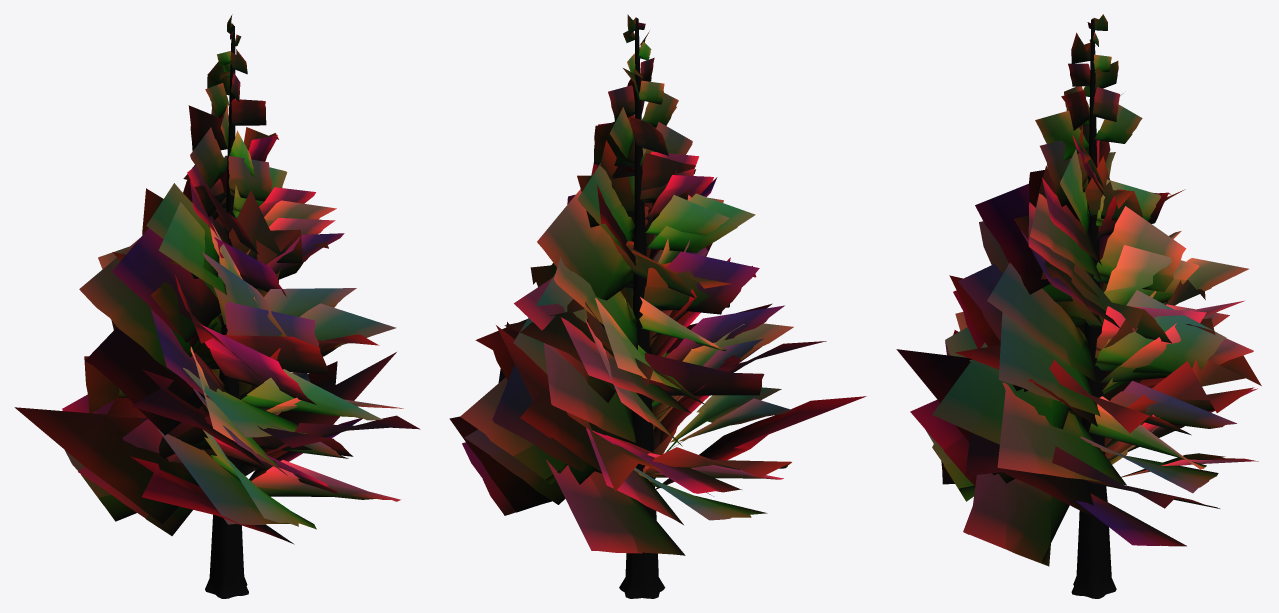
Rendered from Tree_Pine.FBX.
3 views of the same model, side by side, from view 1: azimuth 30°, elevation 25°; view 2: azimuth 150°, elevation 25°; view 3: azimuth 270°, elevation 25° (orthographic).
Parts seen in each view (by area): view 1: Tree_Pine; view 2: Tree_Pine; view 3: Tree_Pine.
Boxes of the visible parts, box(x1,y1,x2,y2) form: Tree_Pine: box(14, 14, 420, 598); Tree_Pine: box(449, 14, 866, 598); Tree_Pine: box(896, 14, 1261, 598).
Size of the model in its own units: 189 by 317 by 183.
